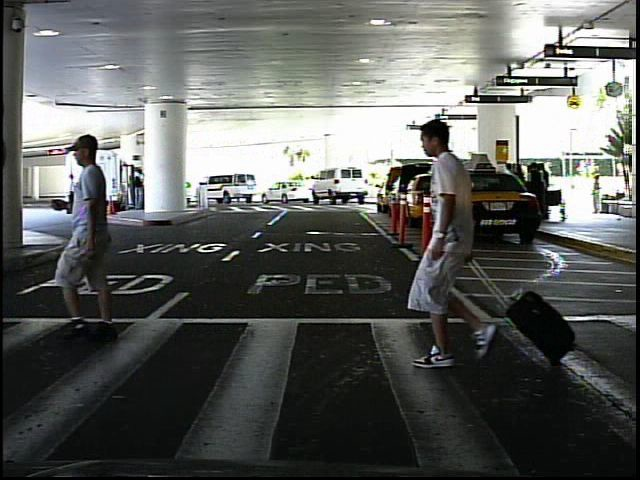person: (399, 111, 525, 378), (43, 131, 143, 344), (63, 169, 81, 219), (588, 172, 607, 218)
